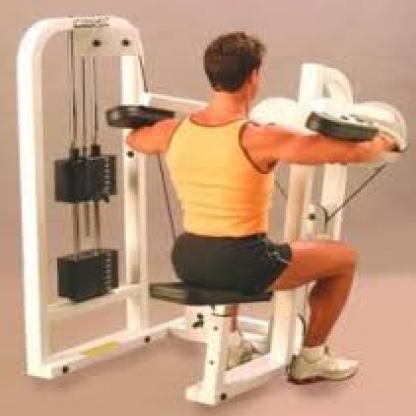lateral raises machine: (18, 18, 409, 404)
